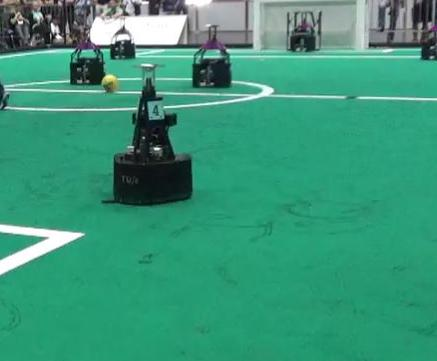robot: (108, 62, 198, 208), (188, 22, 235, 89), (67, 25, 107, 86), (108, 16, 139, 59)
